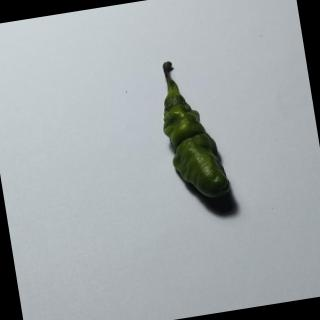Cabai Hijau: (150, 49, 242, 217)
